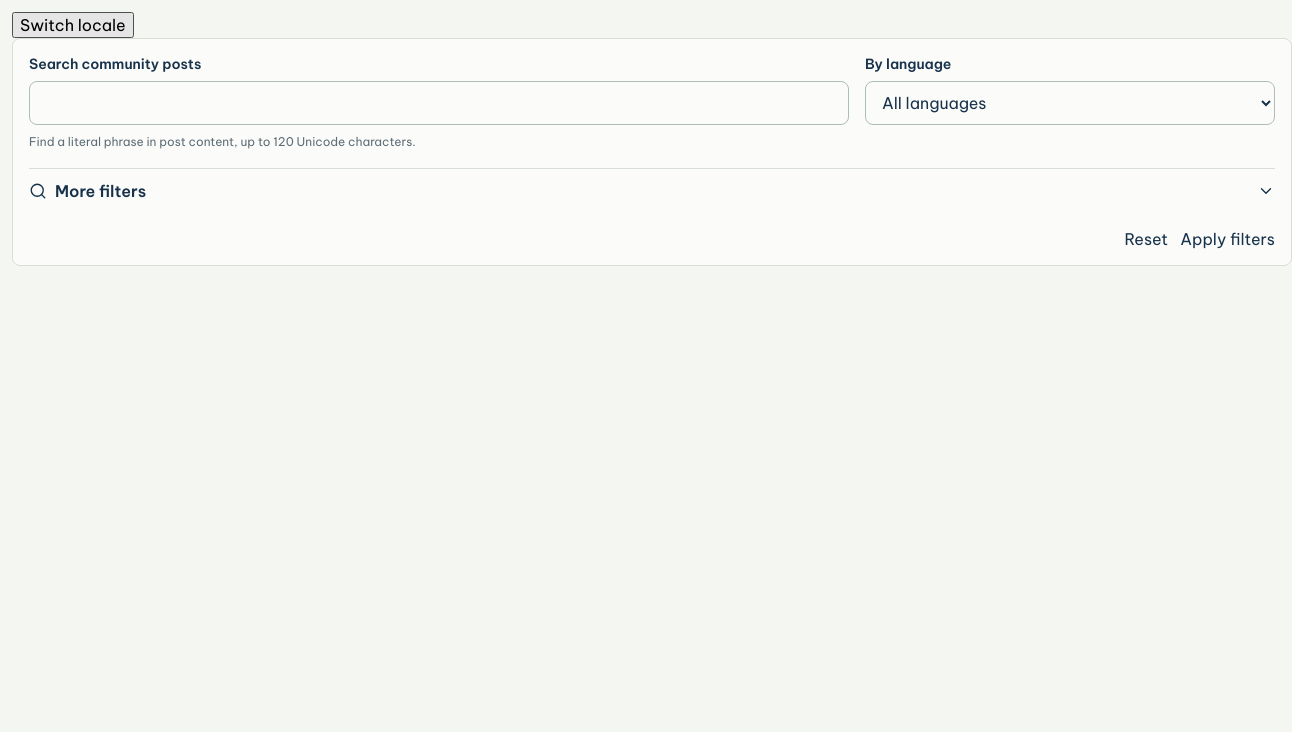
it: labels all eight post types and the bounded question-state and ranking controls in English
Step 1. Click the heading "More filters" → click(101, 191), box [29,181,1275,201]
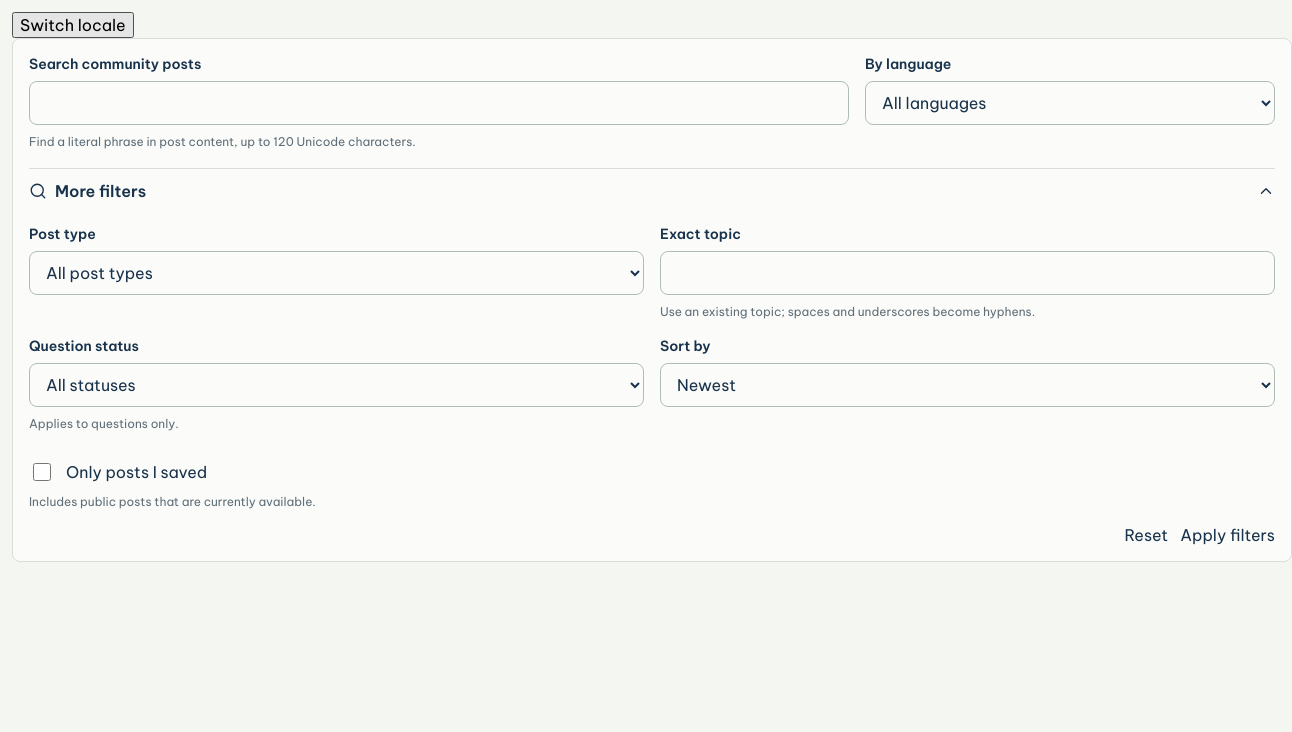
Step 2. Select "Answered" in the dropdown labelled "Question status" → (336, 385), box [29,363,644,407]
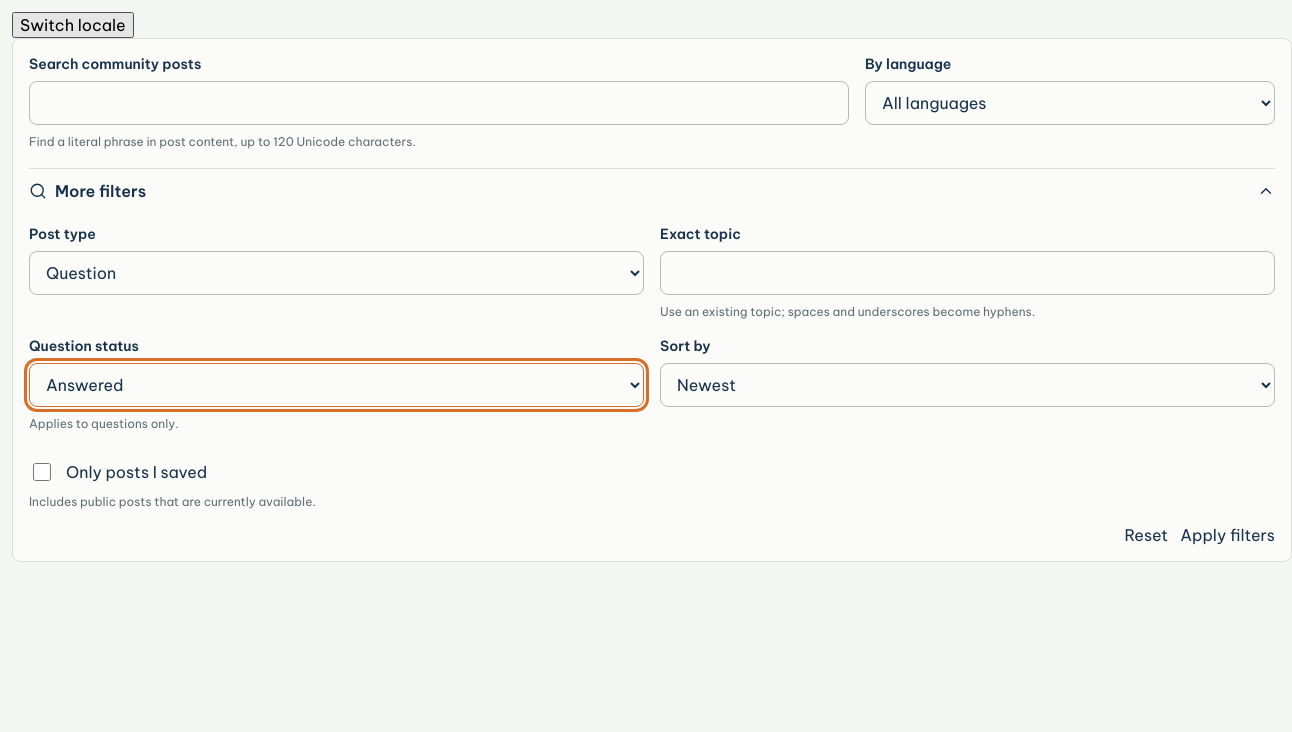
Result: the dropdown labelled "Post type" shows "Question"
Step 3. Select "Culture" in the dropdown labelled "Post type" → (336, 273), box [29,251,644,295]
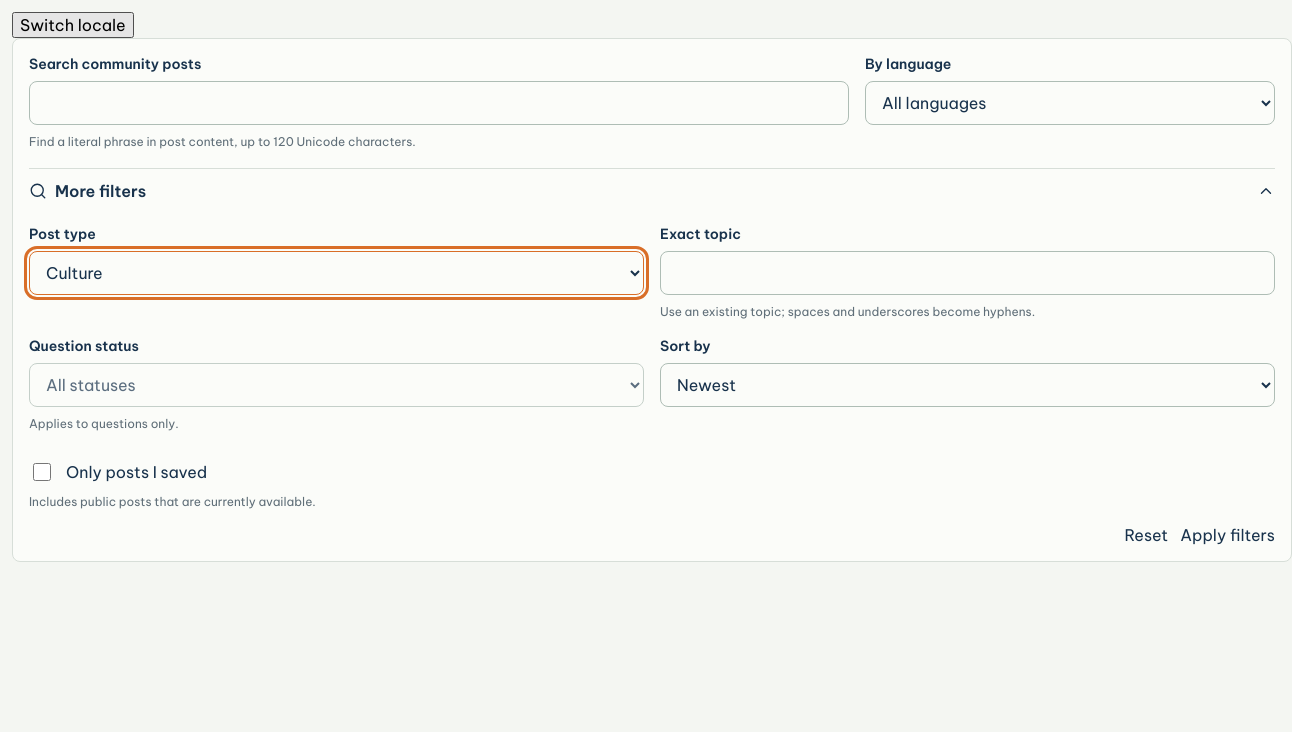
Result: the dropdown labelled "Question status" is disabled at [29,363,644,407]
